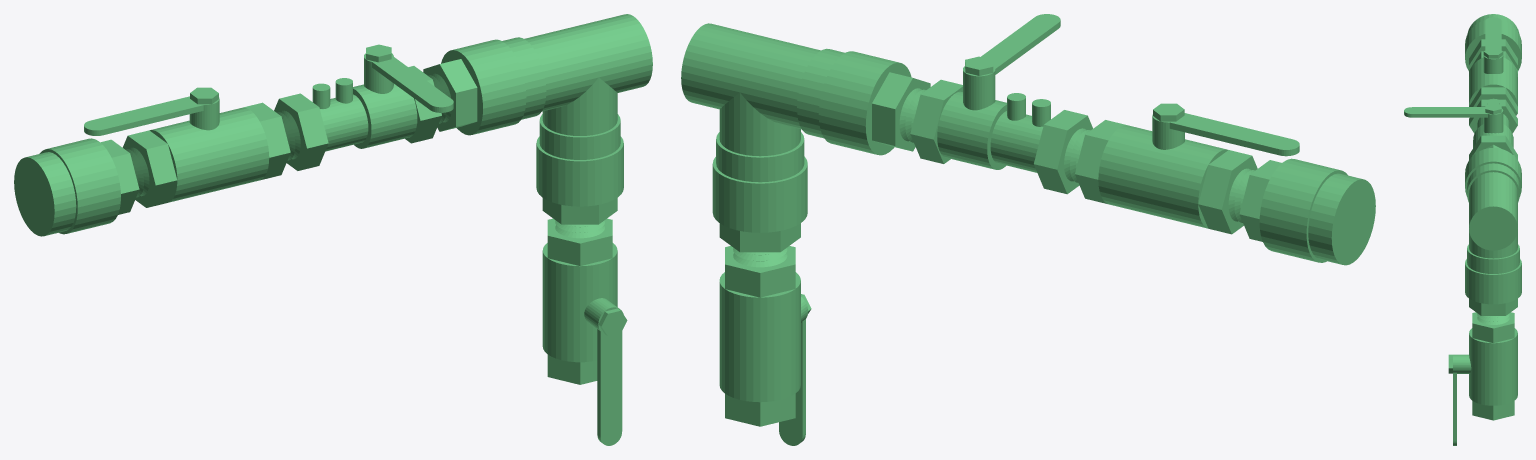
The model's file is patent3.glb.
The picture shows the model from 3 angles, left to right: view 1: azimuth 30°, elevation 25°; view 2: azimuth 150°, elevation 25°; view 3: azimuth 270°, elevation 25°; orthographic projection. The views are drawn at different scales.
Parts seen in each view (by area): view 1: mesh::ОБ-0001::0xPjUXyS17pQ9aHKPj5ptM; view 2: mesh::ОБ-0001::0xPjUXyS17pQ9aHKPj5ptM; view 3: mesh::ОБ-0001::0xPjUXyS17pQ9aHKPj5ptM.
Part boxes in pixels (x1=…): mesh::ОБ-0001::0xPjUXyS17pQ9aHKPj5ptM: x1=14, y1=14, x2=652, y2=445; mesh::ОБ-0001::0xPjUXyS17pQ9aHKPj5ptM: x1=681, y1=14, x2=1375, y2=445; mesh::ОБ-0001::0xPjUXyS17pQ9aHKPj5ptM: x1=1404, y1=14, x2=1521, y2=445.
Size of the model in its own units: 0.555 by 0.3725 by 0.145.
